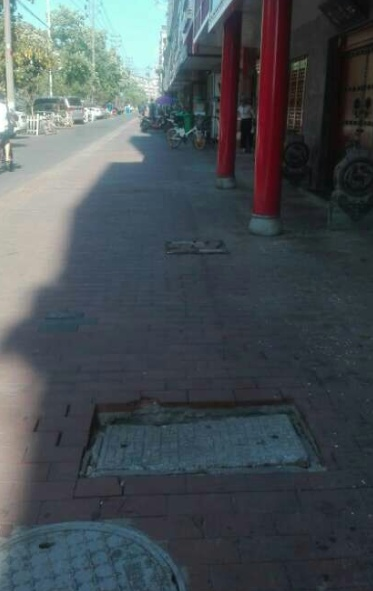good: (1, 519, 188, 589)
uncovered: (75, 396, 325, 482)
